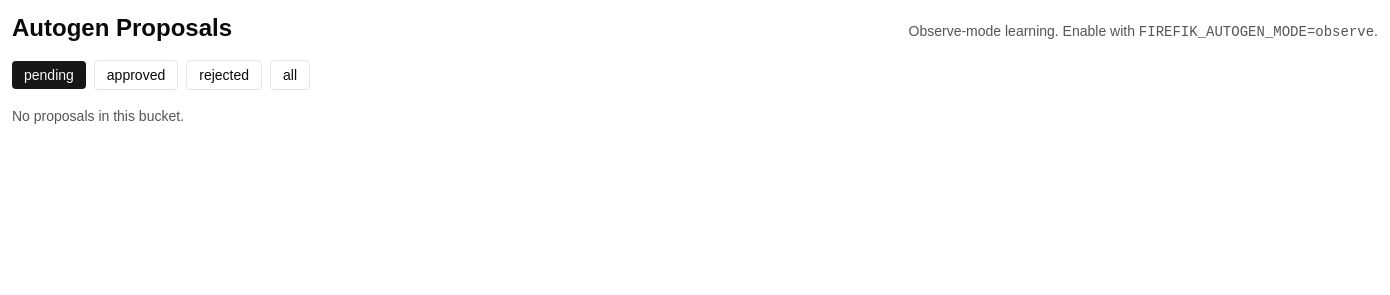
Test: ProposalsPage › renders decided_by metadata without decided_at/reason when those are absent
Click the button "approved" at [136, 75], box [94, 60, 178, 90]
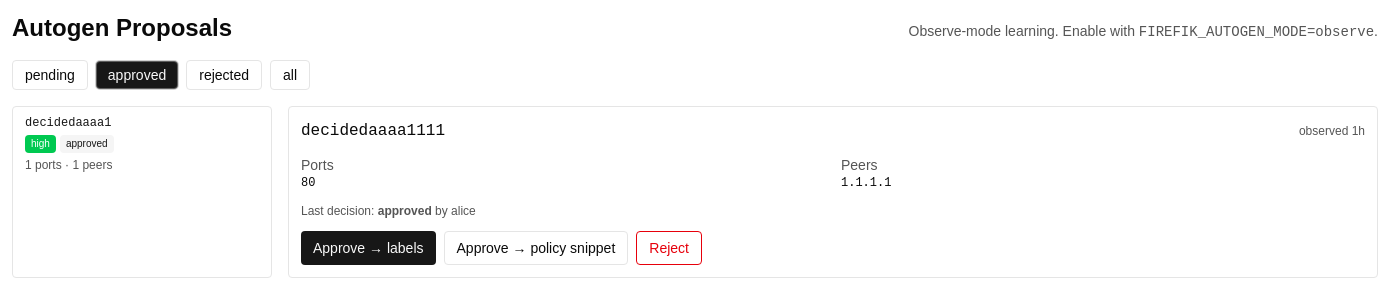
Expected: the text "decidedaaaa1" is shown, [25, 116, 111, 130]
Expected: the text "Last decision: approved by alice" is shown, [301, 204, 476, 218]
